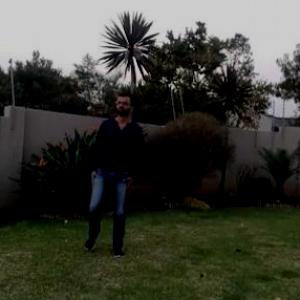follow: (83, 79, 145, 265)
